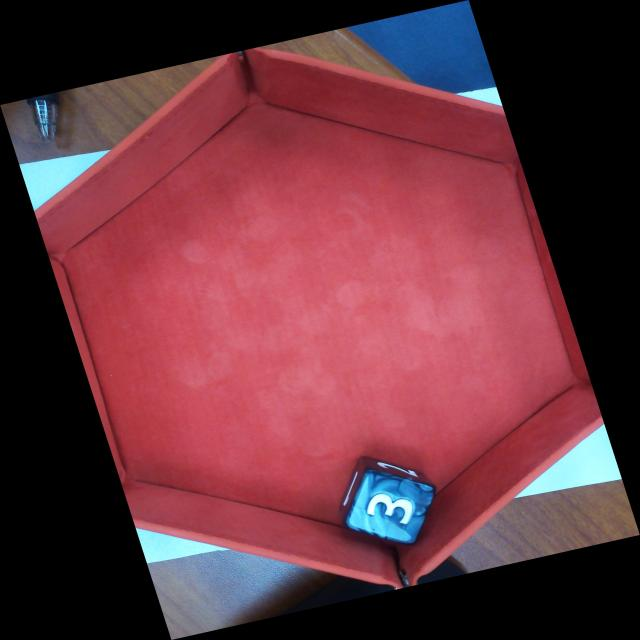dice: (346, 473, 429, 546)
